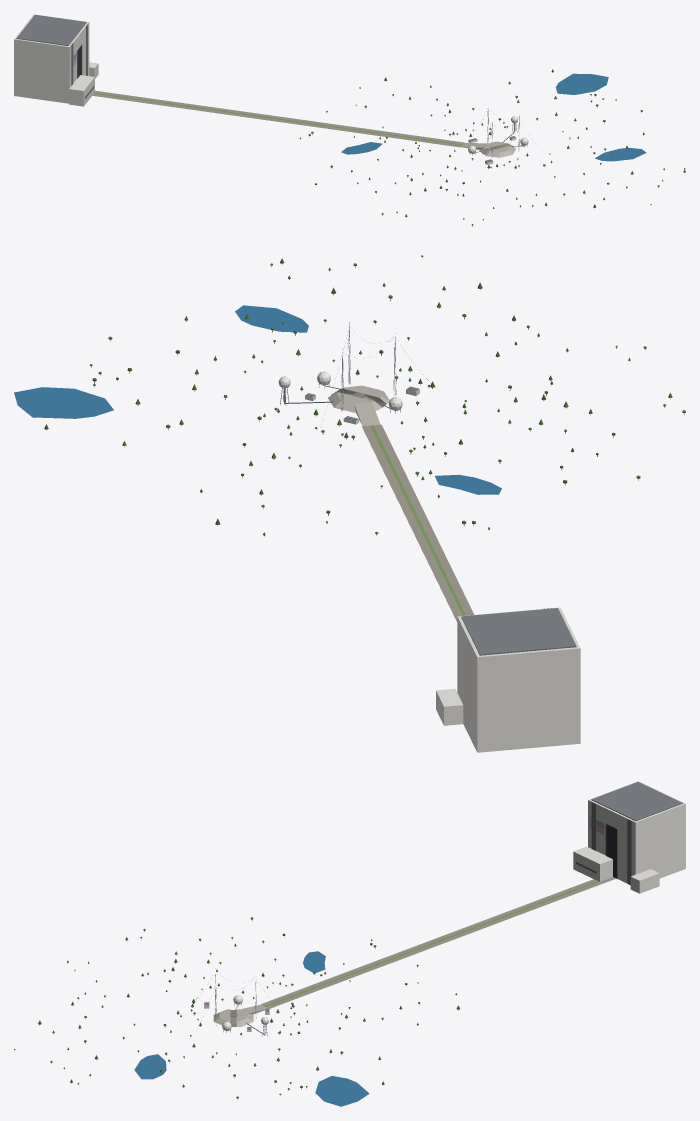
The model's file is launch_site.glb.
3 renders of one model, top to bottom at view 1: azimuth 30°, elevation 25°; view 2: azimuth 150°, elevation 25°; view 3: azimuth 270°, elevation 25°, orthographic. The views are drawn at different scales.
Parts seen in each view (by area): view 1: launch_site__white, launch_site__gravel, launch_site__grey, launch_site__water, launch_site__grassm, launch_site__pad, launch_site__green, launch_site__green2; view 2: launch_site__white, launch_site__water, launch_site__grey, launch_site__gravel, launch_site__pad, launch_site__green, launch_site__green2, launch_site__grassm; view 3: launch_site__white, launch_site__grey, launch_site__gravel, launch_site__water, launch_site__grassm, launch_site__pad, launch_site__green.
Part boxes in pixels (x1,y1,x2,y2): launch_site__white: [14, 14, 528, 164]; launch_site__gravel: [92, 90, 464, 147]; launch_site__grey: [16, 14, 515, 162]; launch_site__water: [341, 73, 646, 161]; launch_site__grassm: [94, 93, 462, 145]; launch_site__pad: [461, 141, 515, 157]; launch_site__green: [299, 81, 685, 225]; launch_site__green2: [308, 69, 685, 212]; launch_site__white: [278, 371, 580, 752]; launch_site__water: [14, 305, 501, 494]; launch_site__grey: [305, 386, 576, 655]; launch_site__gravel: [362, 424, 473, 621]; launch_site__pad: [328, 385, 389, 425]; launch_site__green: [90, 255, 685, 534]; launch_site__green2: [44, 258, 665, 535]; launch_site__grassm: [370, 425, 465, 615]; launch_site__white: [204, 781, 685, 1031]; launch_site__grey: [204, 782, 682, 1029]; launch_site__gravel: [261, 877, 615, 1008]; launch_site__water: [134, 951, 369, 1106]; launch_site__grassm: [265, 881, 598, 1006]; launch_site__pad: [213, 1004, 269, 1026]; launch_site__green: [14, 917, 419, 1098].
Bounding box in the file's own units: 1376 × 162 × 1499.
15 materials, 1 textured.
